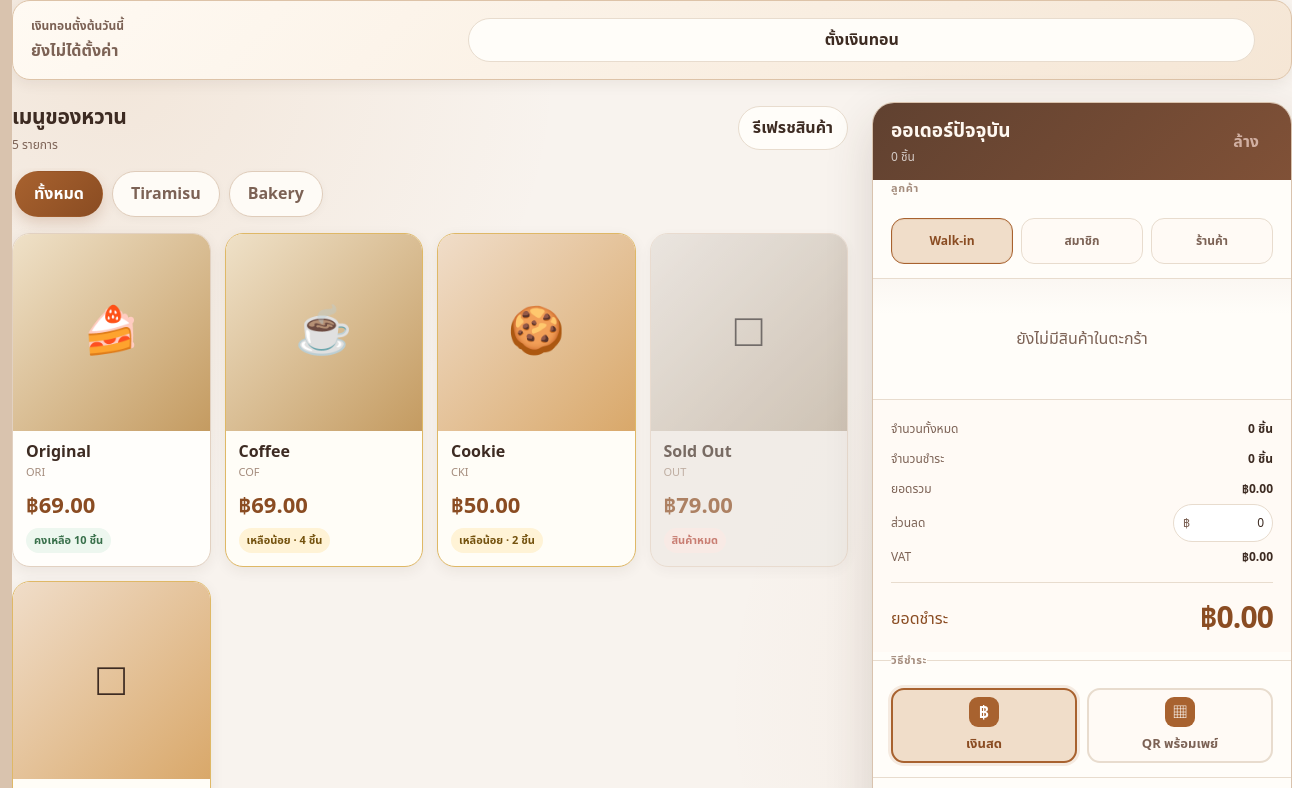
SellPage › adds from the full product card and updates remaining stock immediately
(page scrolled)
Click the button with aria-label "เพิ่ม Original ลงตะกร้า" at (111, 400), box [12,233,210,567]
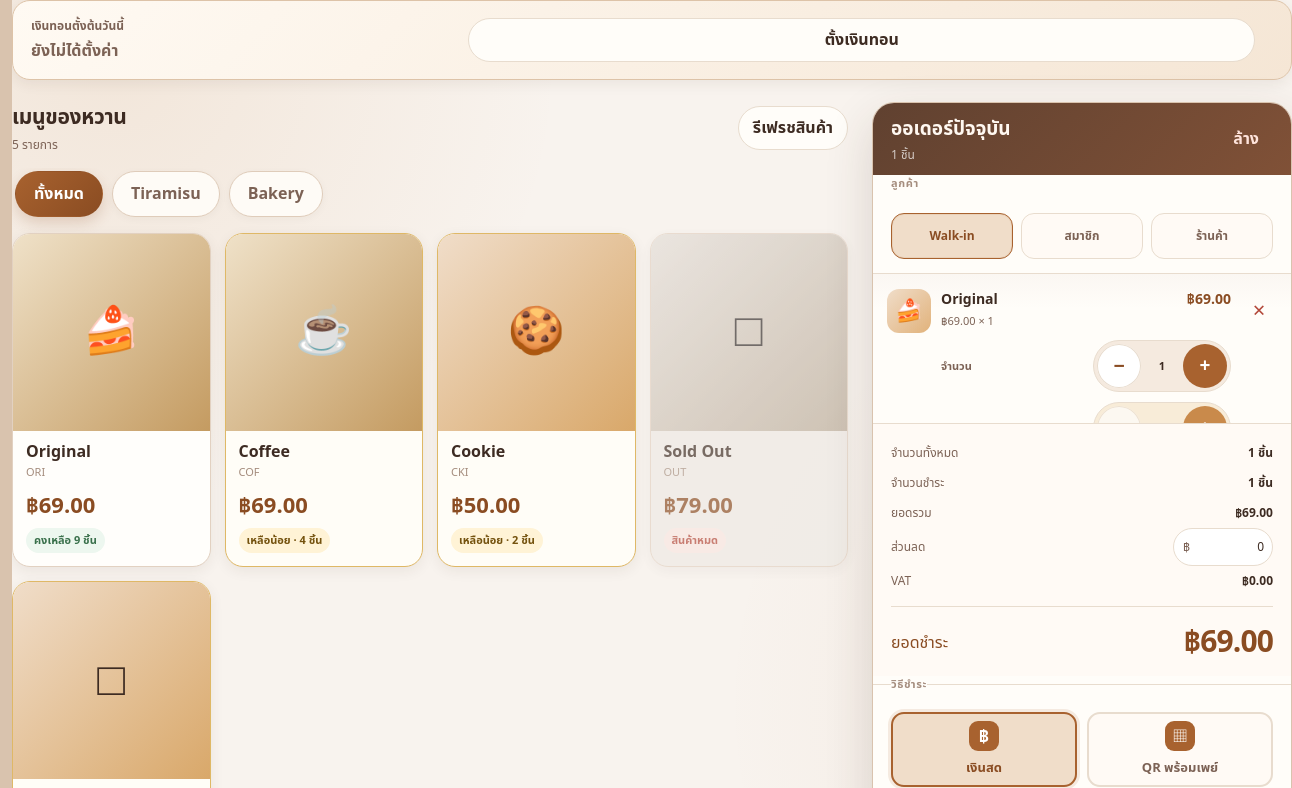
Check: the text named "จำนวน Original" reads "1", box [1159,358,1165,374]
Check: the button with aria-label "เพิ่ม Original ลงตะกร้า" shows "คงเหลือ 9 ชิ้น", box [12,233,210,567]
